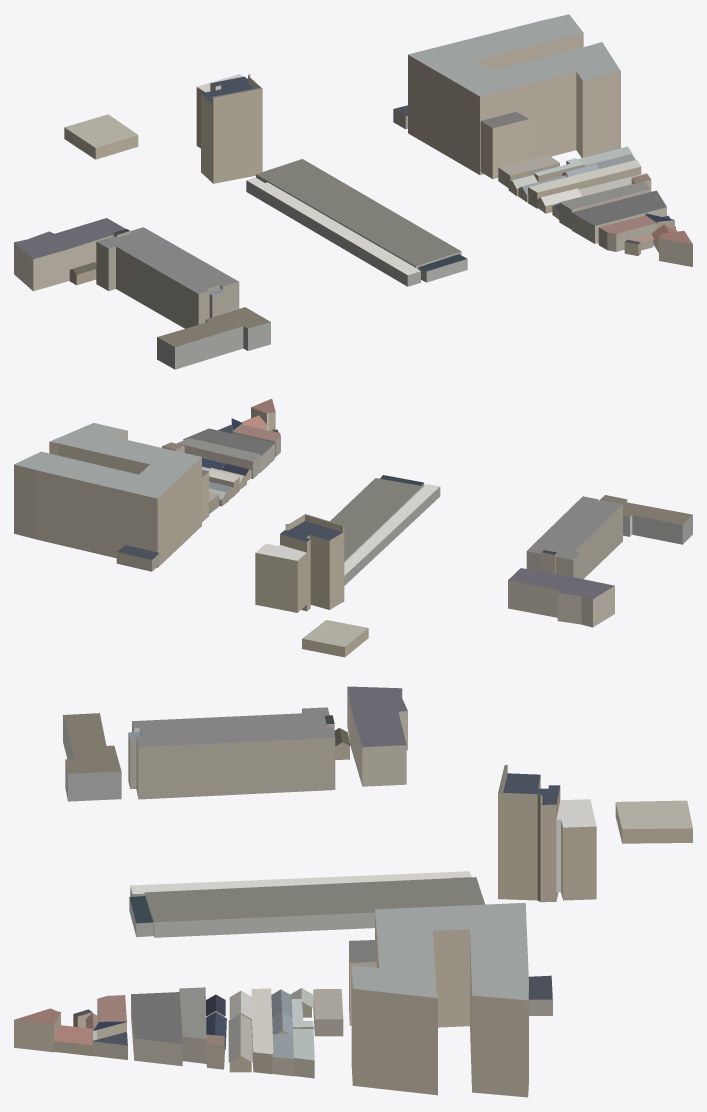
3 renders of one model, top to bottom at view 1: azimuth 30°, elevation 25°; view 2: azimuth 150°, elevation 25°; view 3: azimuth 270°, elevation 25°, orthographic. The views are drawn at different scales.
Parts seen in each view (by area): view 1: tuile; view 2: tuile; view 3: tuile.
Boxes of the visible parts, x1=… form: tuile: x1=14, y1=14, x2=692, y2=369; tuile: x1=14, y1=398, x2=692, y2=657; tuile: x1=14, y1=686, x2=692, y2=1097.
Bounding box in the file's own units: 288 × 41.65 × 225.
